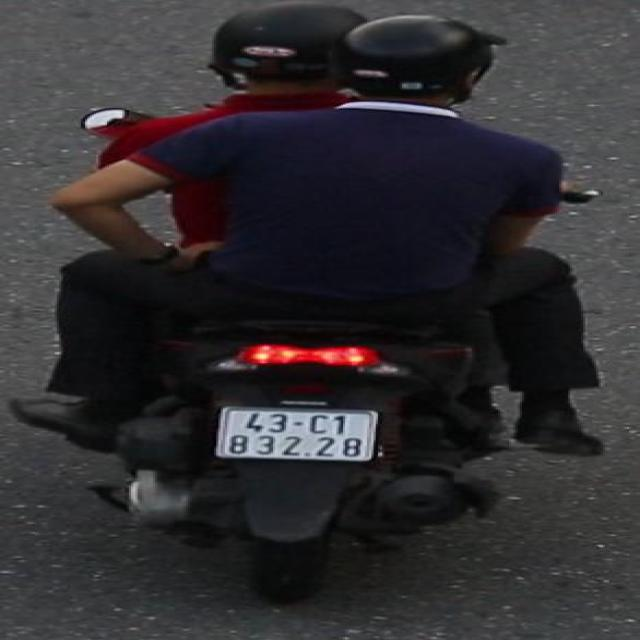LP: (212, 400, 386, 464)
helmet: (330, 12, 509, 126), (197, 2, 367, 117)
